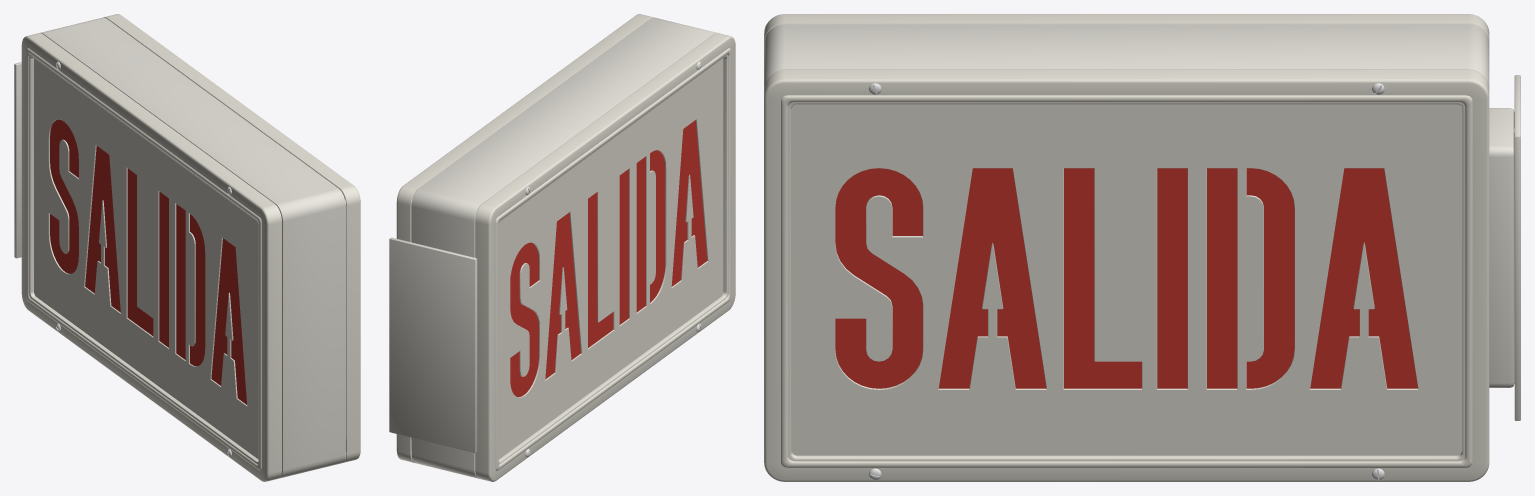
File: Kit_ExitSign_End.fbx
3 renders of one model, left to right at view 1: azimuth 30°, elevation 25°; view 2: azimuth 150°, elevation 25°; view 3: azimuth 270°, elevation 25°, orthographic. The views are drawn at different scales.
Parts seen in each view (by area): view 1: Kit_ExitSign_End_LOD0; view 2: Kit_ExitSign_End_LOD0; view 3: Kit_ExitSign_End_LOD0.
Boxes of the visible parts, box(x1,y1,x2,y2) form: Kit_ExitSign_End_LOD0: box(14, 14, 360, 481); Kit_ExitSign_End_LOD0: box(389, 14, 735, 481); Kit_ExitSign_End_LOD0: box(764, 14, 1520, 481).
Size of what is drawn, in the model's own units: 0.0789 by 0.212 by 0.361.
